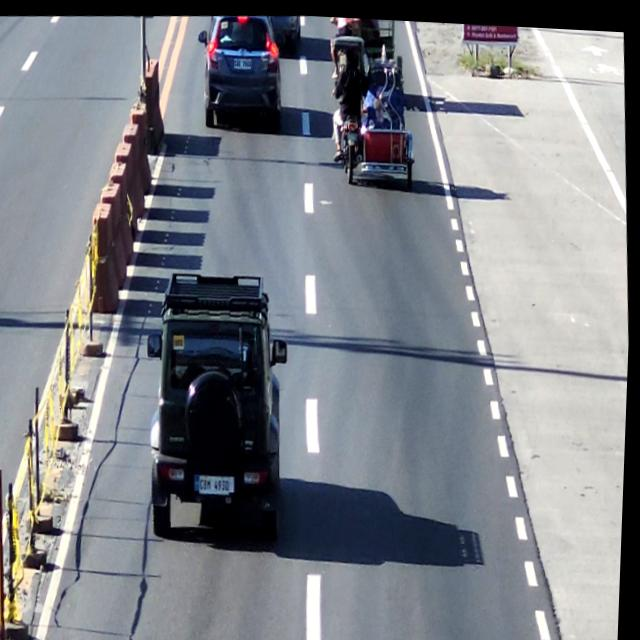Car: (192, 9, 288, 136)
Jeep: (142, 265, 306, 555)
License-Plate: (193, 465, 241, 503), (234, 52, 254, 72)
Tricycle: (318, 29, 426, 193)
